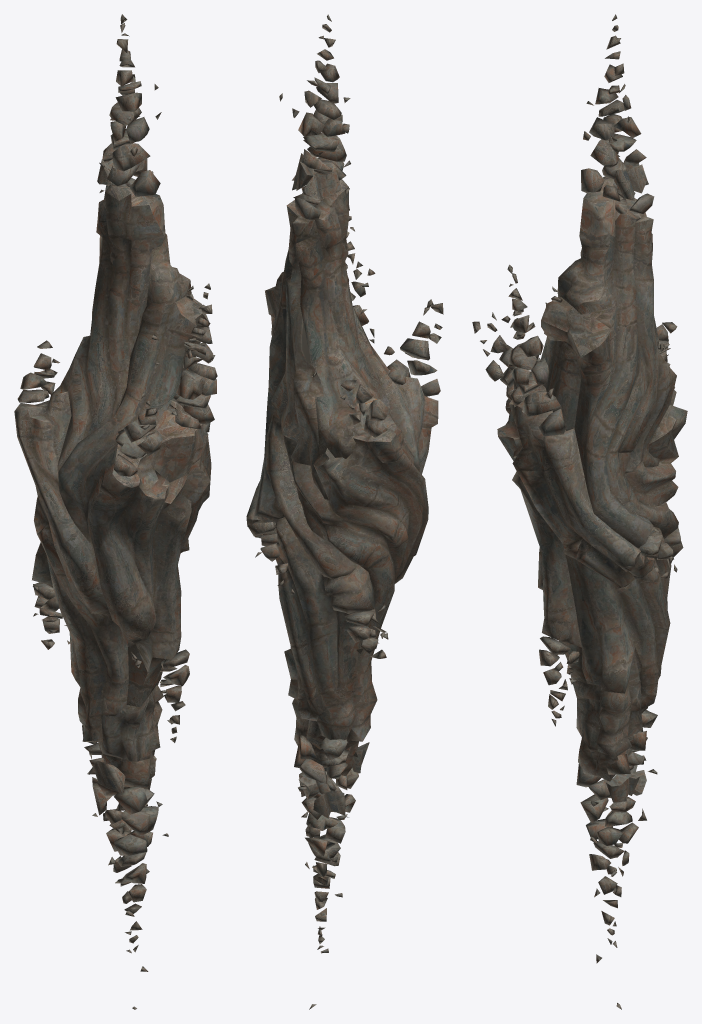
The model's file is bg_rad_kamen_rockpillar01blowpoly_sm.obj.
The picture shows the model from 3 angles, left to right: view 1: azimuth 30°, elevation 25°; view 2: azimuth 150°, elevation 25°; view 3: azimuth 270°, elevation 25°; orthographic projection.
Parts seen in each view (by area): view 1: bg_rad_kamen_rockpillar01blowpoly_sm_1, bg_rad_kamen_rockpillar01blowpoly_sm_0, bg_rad_kamen_rockpillar01blowpoly_sm_3; view 2: bg_rad_kamen_rockpillar01blowpoly_sm_1, bg_rad_kamen_rockpillar01blowpoly_sm_0, bg_rad_kamen_rockpillar01blowpoly_sm_3; view 3: bg_rad_kamen_rockpillar01blowpoly_sm_0, bg_rad_kamen_rockpillar01blowpoly_sm_1, bg_rad_kamen_rockpillar01blowpoly_sm_3.
Part boxes in pixels (x1,y1,x2,y2): bg_rad_kamen_rockpillar01blowpoly_sm_1: [14, 410, 191, 789]; bg_rad_kamen_rockpillar01blowpoly_sm_0: [15, 184, 211, 552]; bg_rad_kamen_rockpillar01blowpoly_sm_3: [17, 14, 217, 1009]; bg_rad_kamen_rockpillar01blowpoly_sm_1: [246, 396, 438, 775]; bg_rad_kamen_rockpillar01blowpoly_sm_0: [246, 179, 424, 579]; bg_rad_kamen_rockpillar01blowpoly_sm_3: [247, 14, 443, 1009]; bg_rad_kamen_rockpillar01blowpoly_sm_0: [497, 176, 678, 588]; bg_rad_kamen_rockpillar01blowpoly_sm_1: [498, 390, 687, 781]; bg_rad_kamen_rockpillar01blowpoly_sm_3: [472, 14, 677, 1009].
Size of the model in its own units: 2.21 by 12.95 by 2.56.
Materials: 4 (4 with a texture image).
